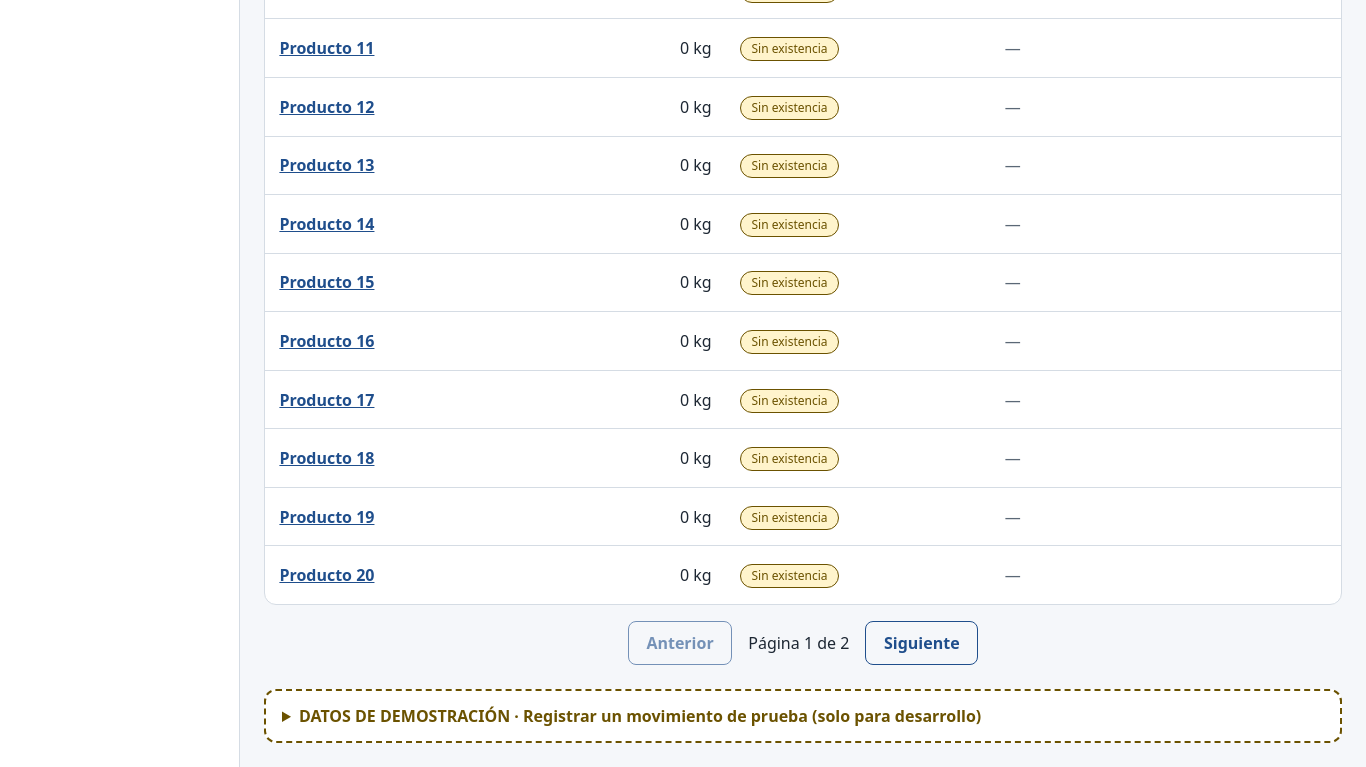
inventario: lista de existencias › pagina de a 20
(page scrolled)
What coordinates should you click on to do the following:
click the button "Siguiente"
I would click on:
 (922, 643)
Its box is top-left (865, 621), bottom-right (978, 665).
(page scrolled)
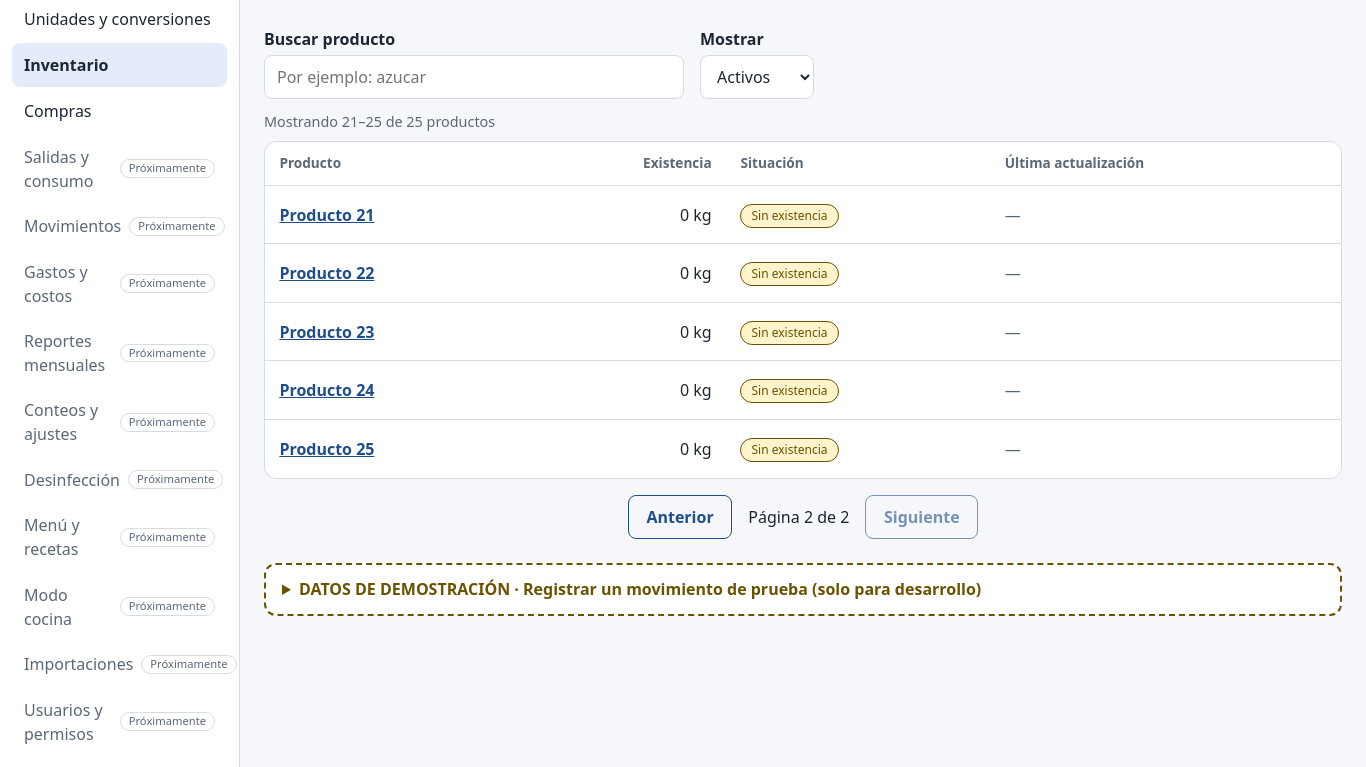
Now the text "Mostrando 21–25 de 25 productos" is shown, box top-left (264, 112), bottom-right (495, 131)
